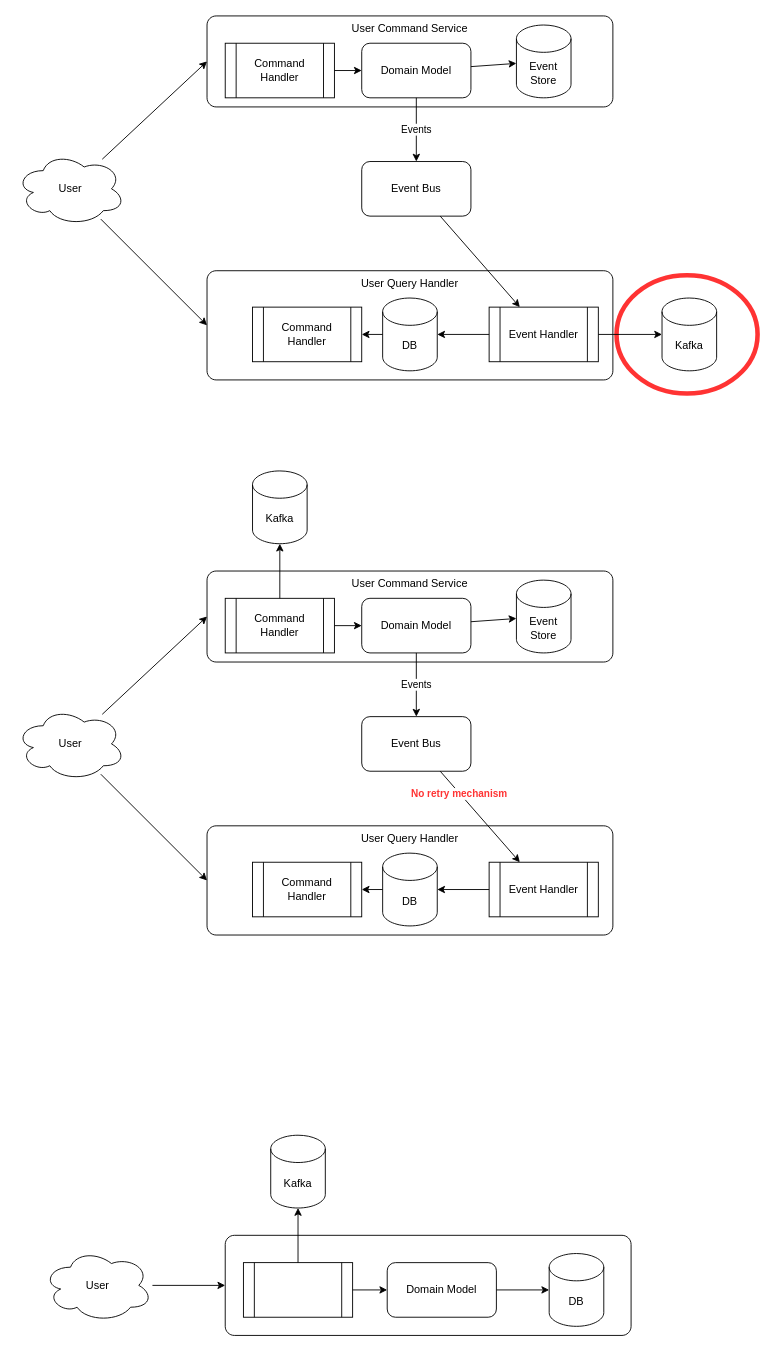
The diagram is 775 pixels wide and 1351 high, and some of its shapes have lost their labels. The box of each missing label's shape, as (x1, y1, x2, y2) in pixels:
Handler: (243, 1262, 353, 1317)
User Service: (224, 1234, 631, 1335)
